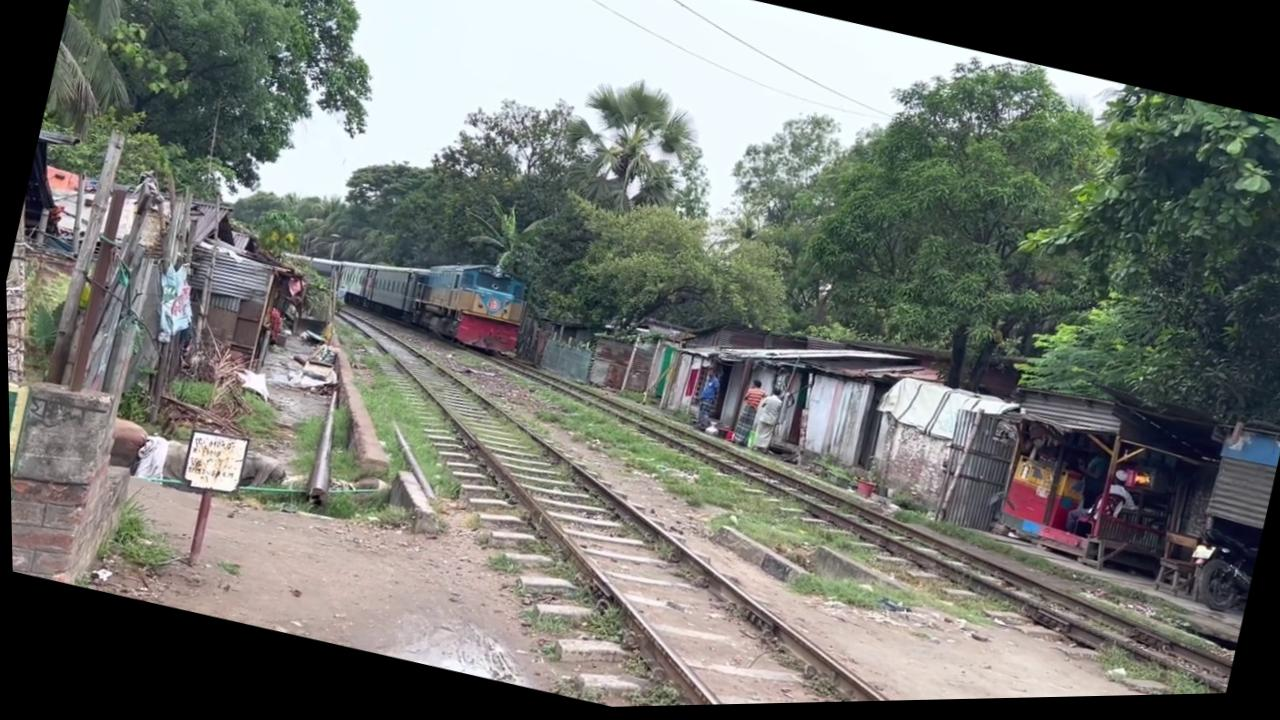Curb: (1176, 528, 1259, 623)
Fence: (744, 385, 786, 458), (688, 369, 724, 436)
Motorcycle: (247, 283, 1096, 716)
Pothole: (175, 425, 249, 499)
Potted-plant: (267, 214, 534, 366)
Railroad-crossing: (762, 19, 1157, 427), (28, 0, 417, 244), (547, 64, 713, 230)
